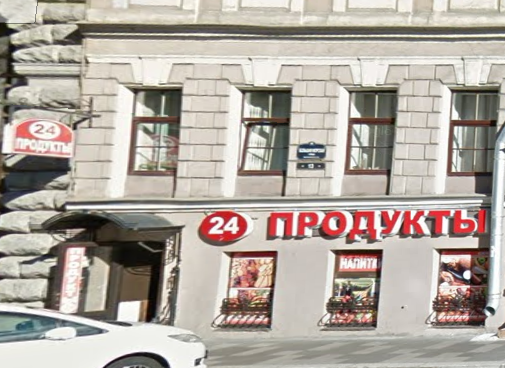cantilever: (4, 95, 96, 157)
signboard: (192, 199, 489, 245)
window: (343, 91, 393, 174), (131, 87, 178, 171), (242, 89, 286, 177), (448, 89, 494, 172), (329, 250, 377, 325), (442, 247, 484, 327), (226, 254, 270, 326)
